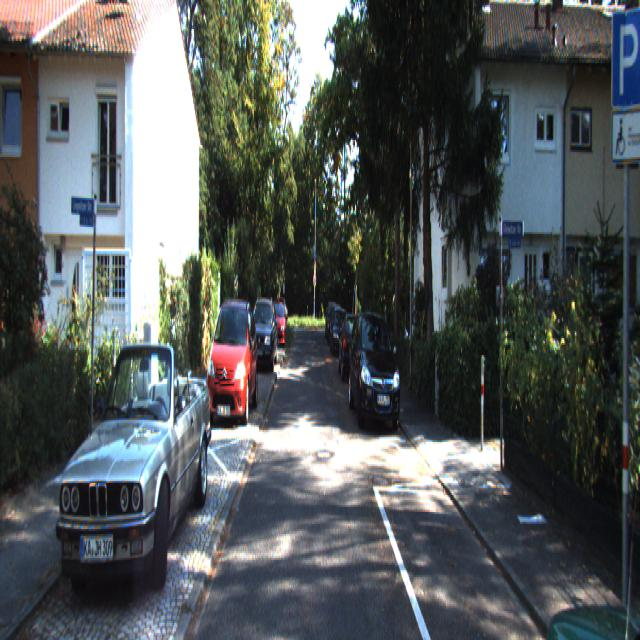Car: (55, 336, 215, 618), (540, 374, 640, 638), (347, 309, 402, 437), (207, 298, 257, 427), (247, 299, 278, 377), (338, 312, 368, 383), (330, 310, 350, 361), (268, 304, 287, 353)
